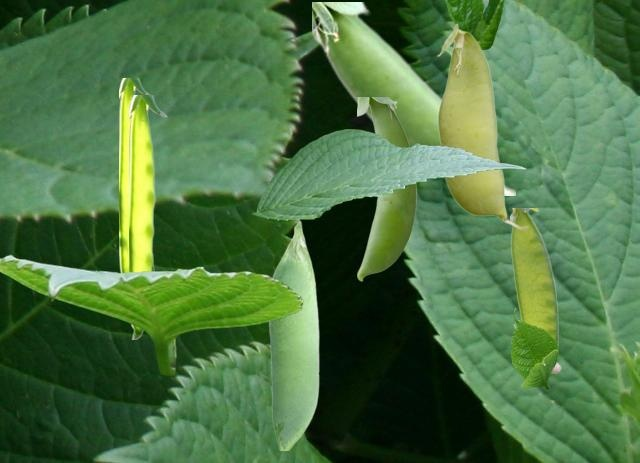pea: (312, 2, 514, 194), (436, 23, 528, 229), (268, 220, 318, 449), (357, 97, 415, 280), (129, 95, 166, 338), (510, 208, 560, 372), (119, 78, 150, 271)
